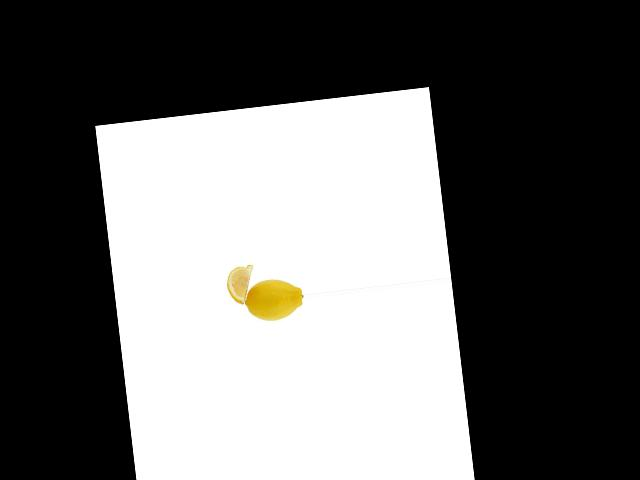lemon: (239, 273, 307, 325)
